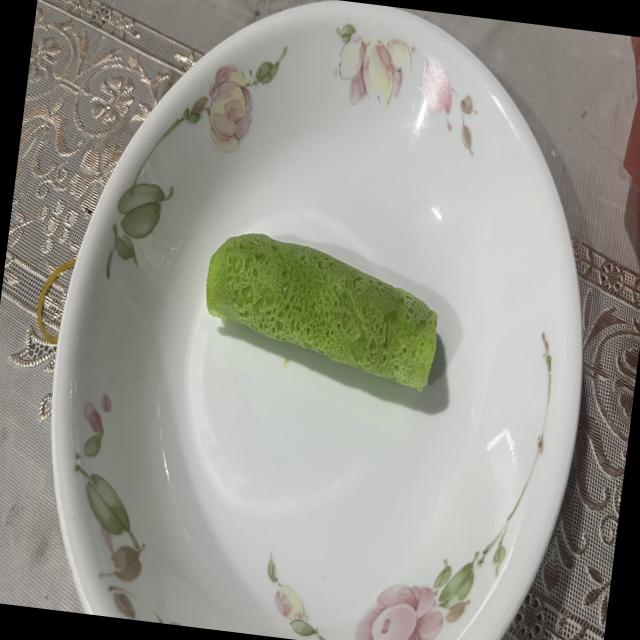Kuih-Ketayap: (205, 233, 436, 391)
